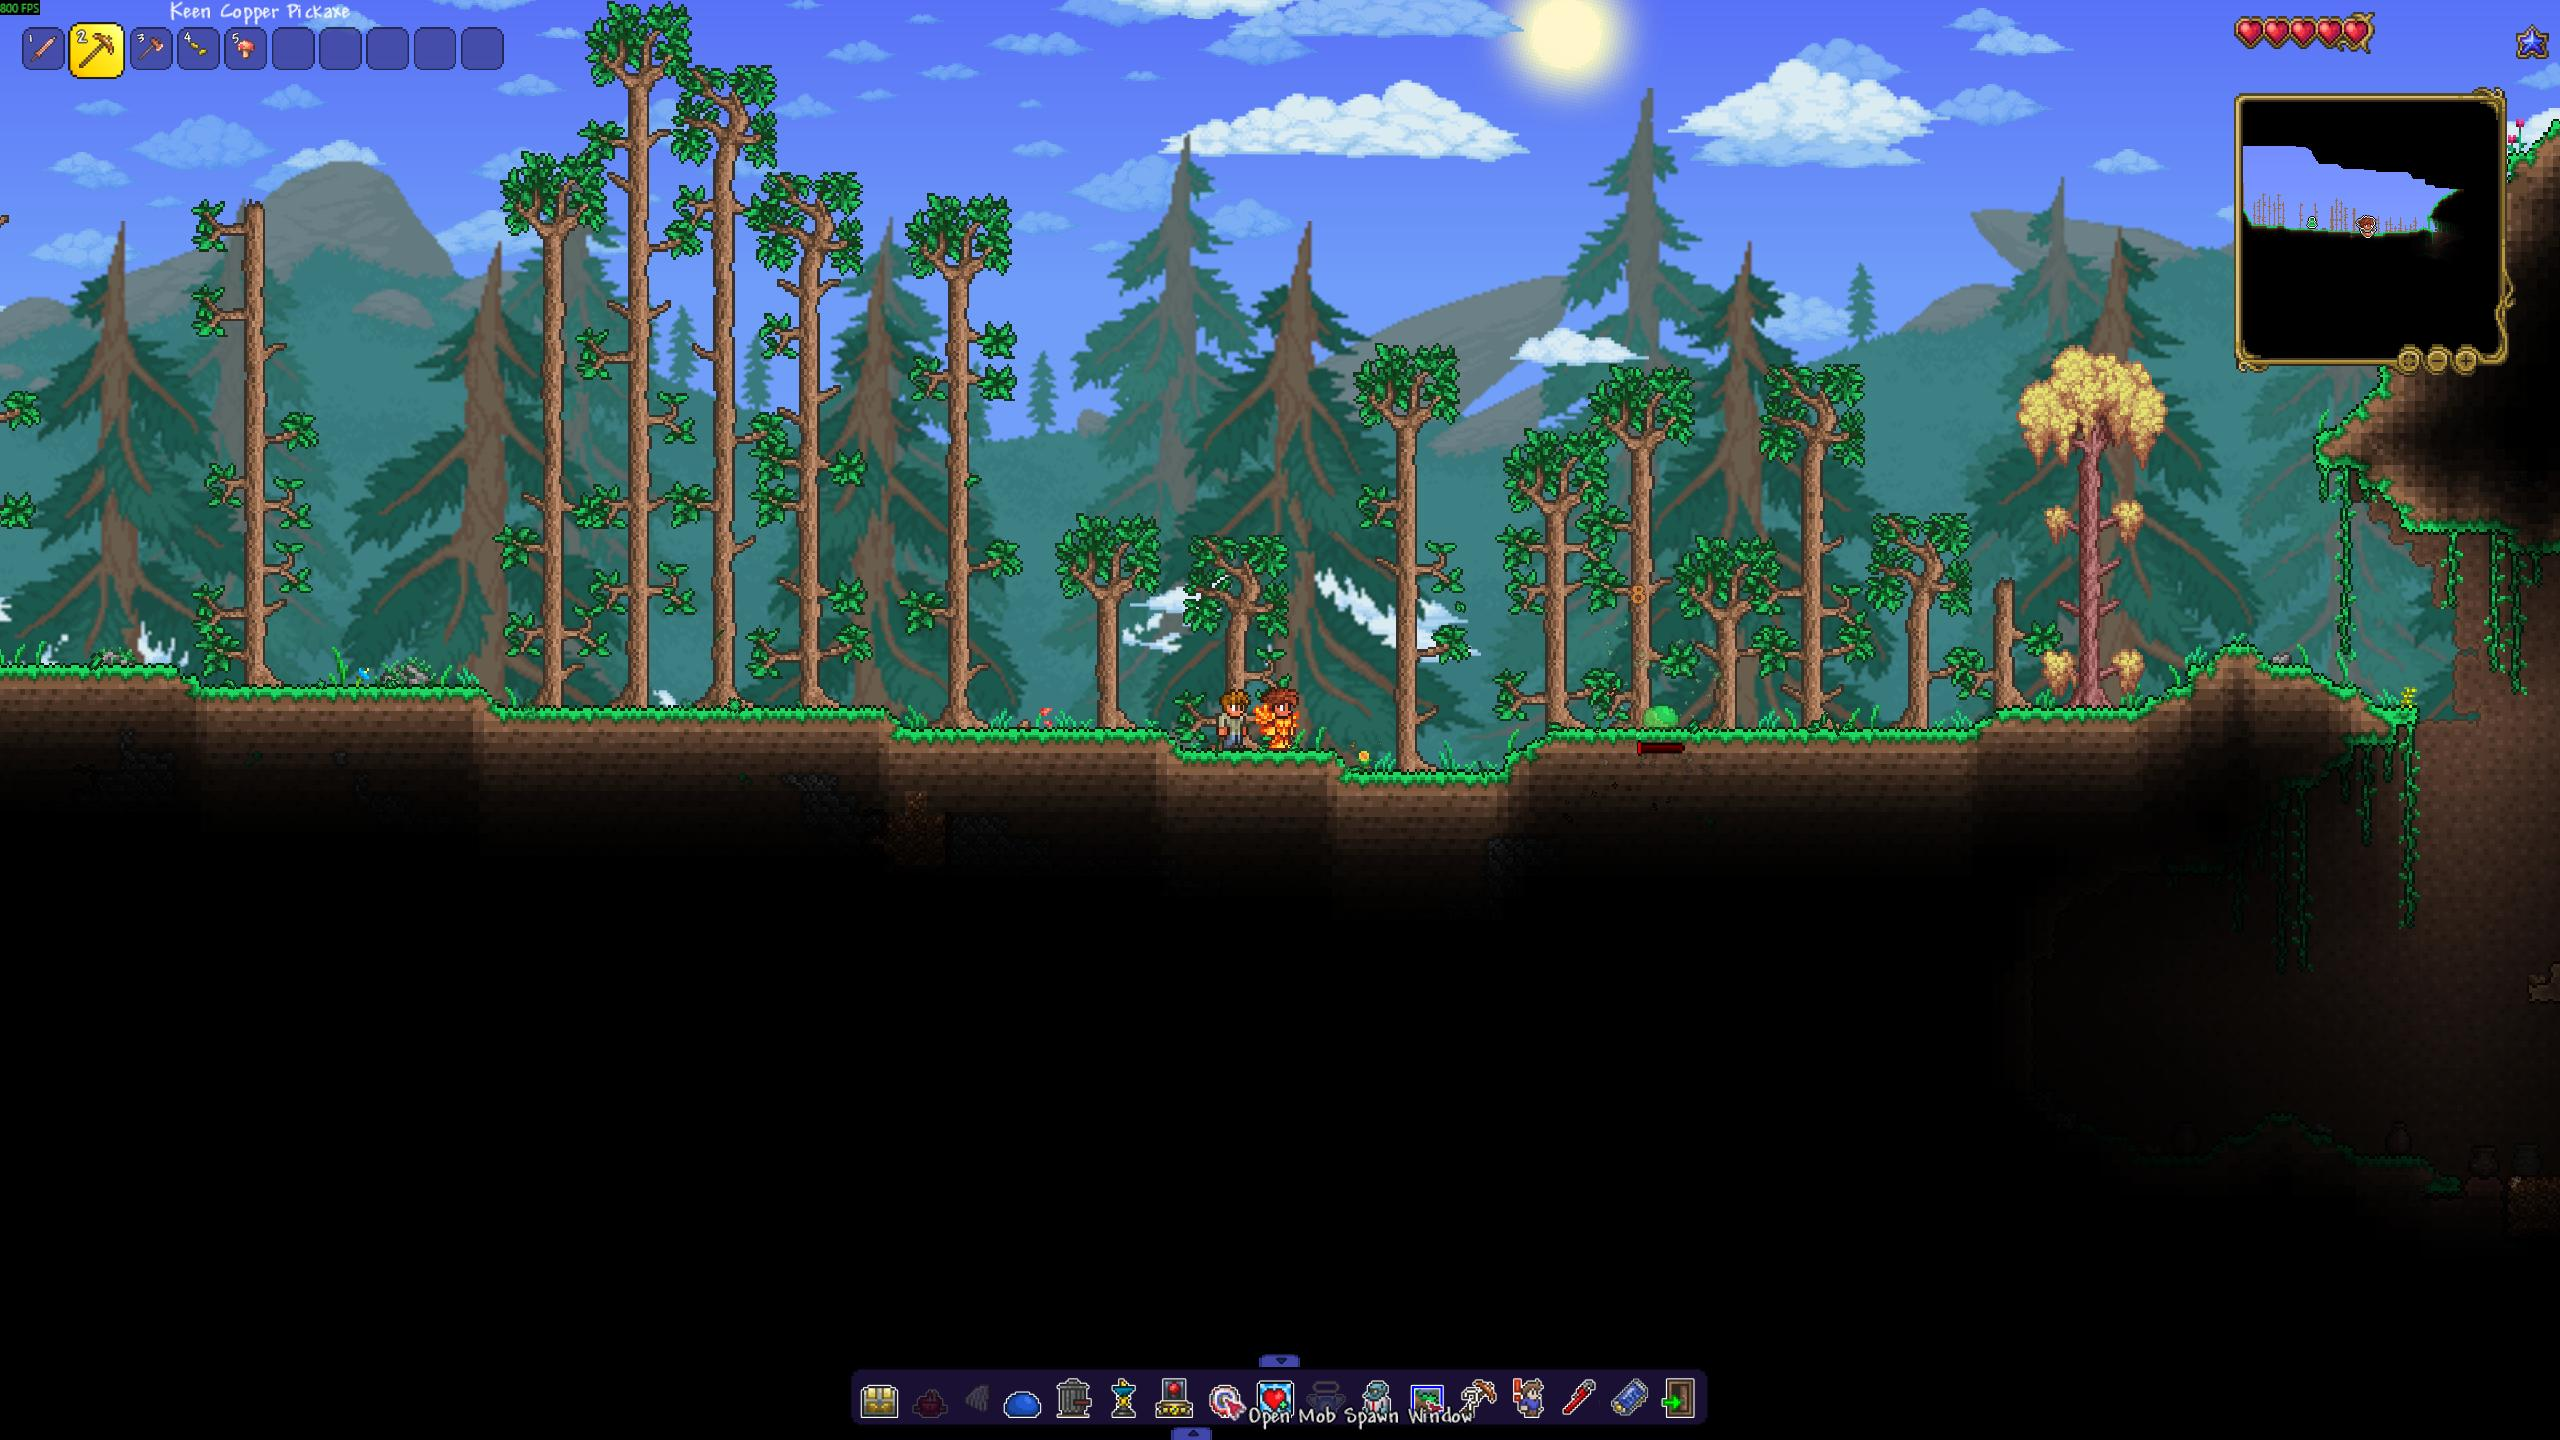Green Slime: (1639, 702, 1683, 731)
